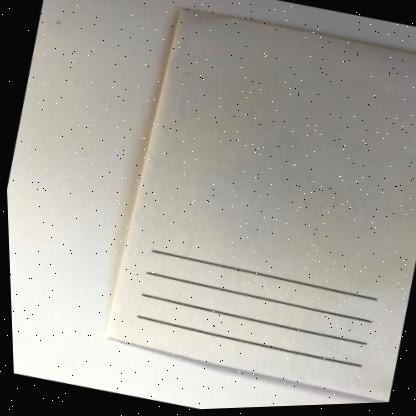Paper: (102, 10, 416, 404)
